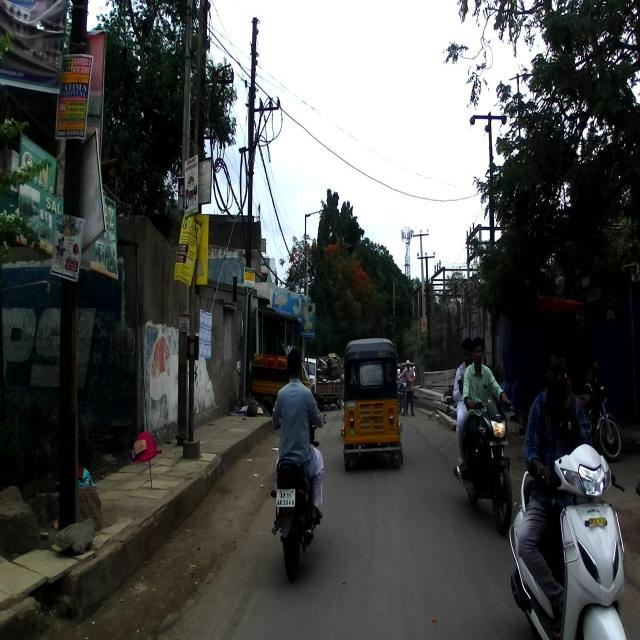autorickshaw: (341, 337, 403, 467)
motorcycle: (272, 415, 328, 584)
motorcycle_Honda: (452, 394, 516, 547)
motorcycle_bajaj: (554, 376, 622, 462)
scooter: (507, 425, 627, 639)
